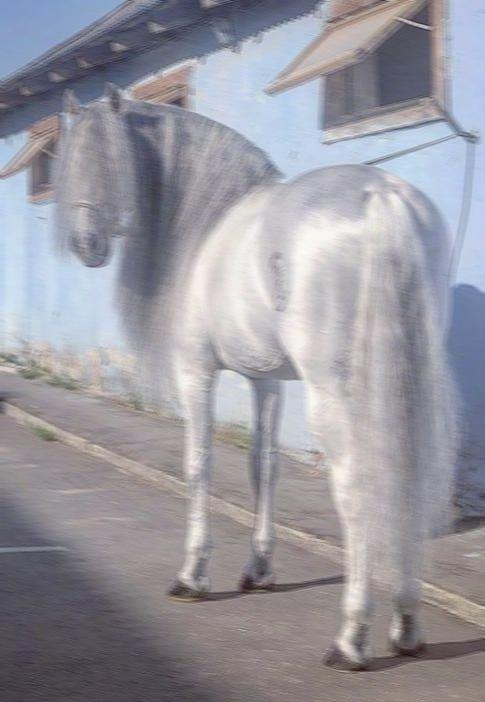horse: (48, 80, 466, 672)
